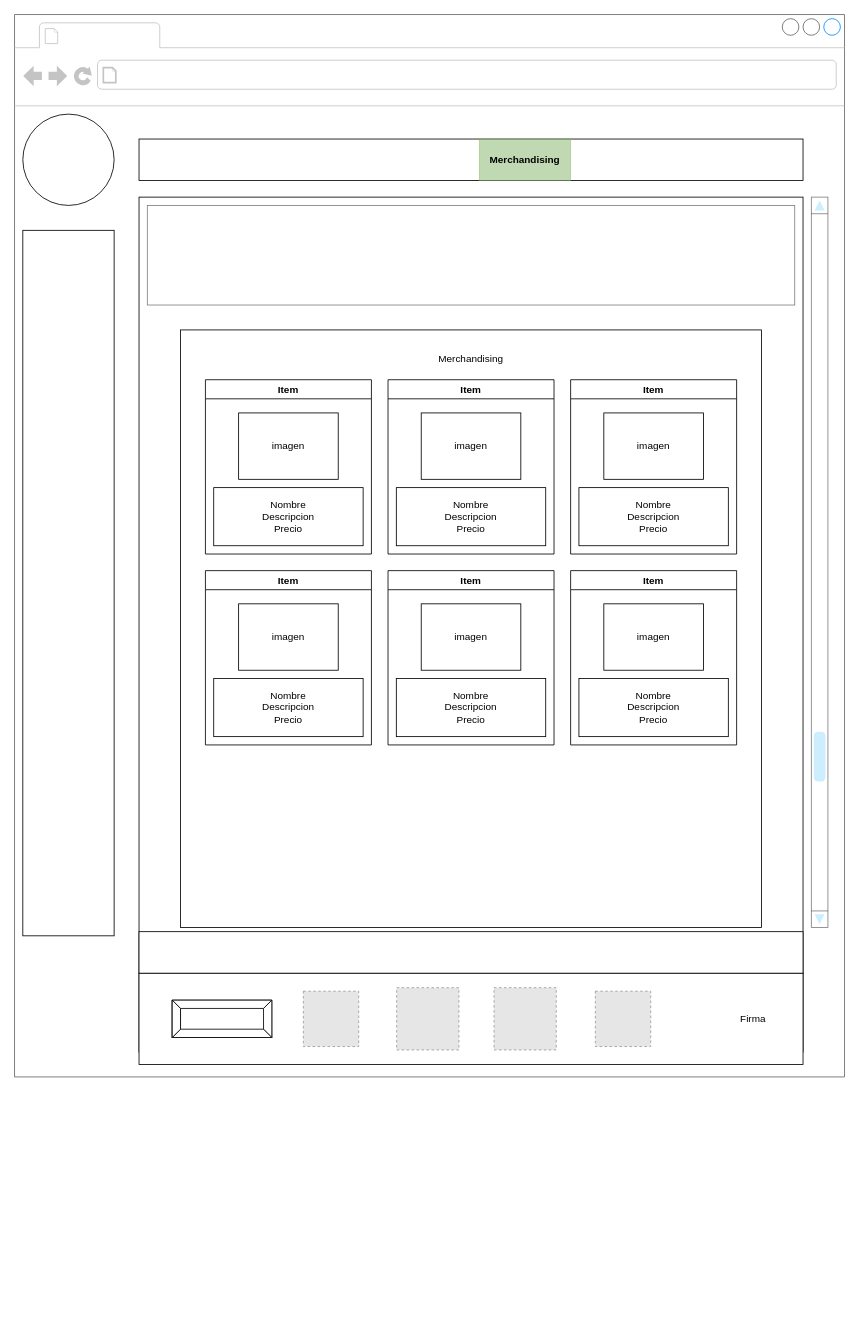
Image size: 859x1332. Some labels were removed from this diagram. Grey dashed boxes stand in for pictures. The shapes that lost their labels are listed below. From the top down, each one's box as (x1, y1, x2, y2) in pixels, then its label:
(63, 24, 156, 46): Page 1
(122, 63, 330, 86): https://www.draw.io
(22, 113, 114, 205): LOGO
(138, 138, 803, 181): Home Historia Ficha Tecnica Merchandising Comprar tu Mustang
(146, 205, 795, 305): Foto de cabecera
(22, 229, 114, 936): AD
(138, 931, 803, 973): Mapa del sitio
(171, 999, 272, 1038): Suscribirse
